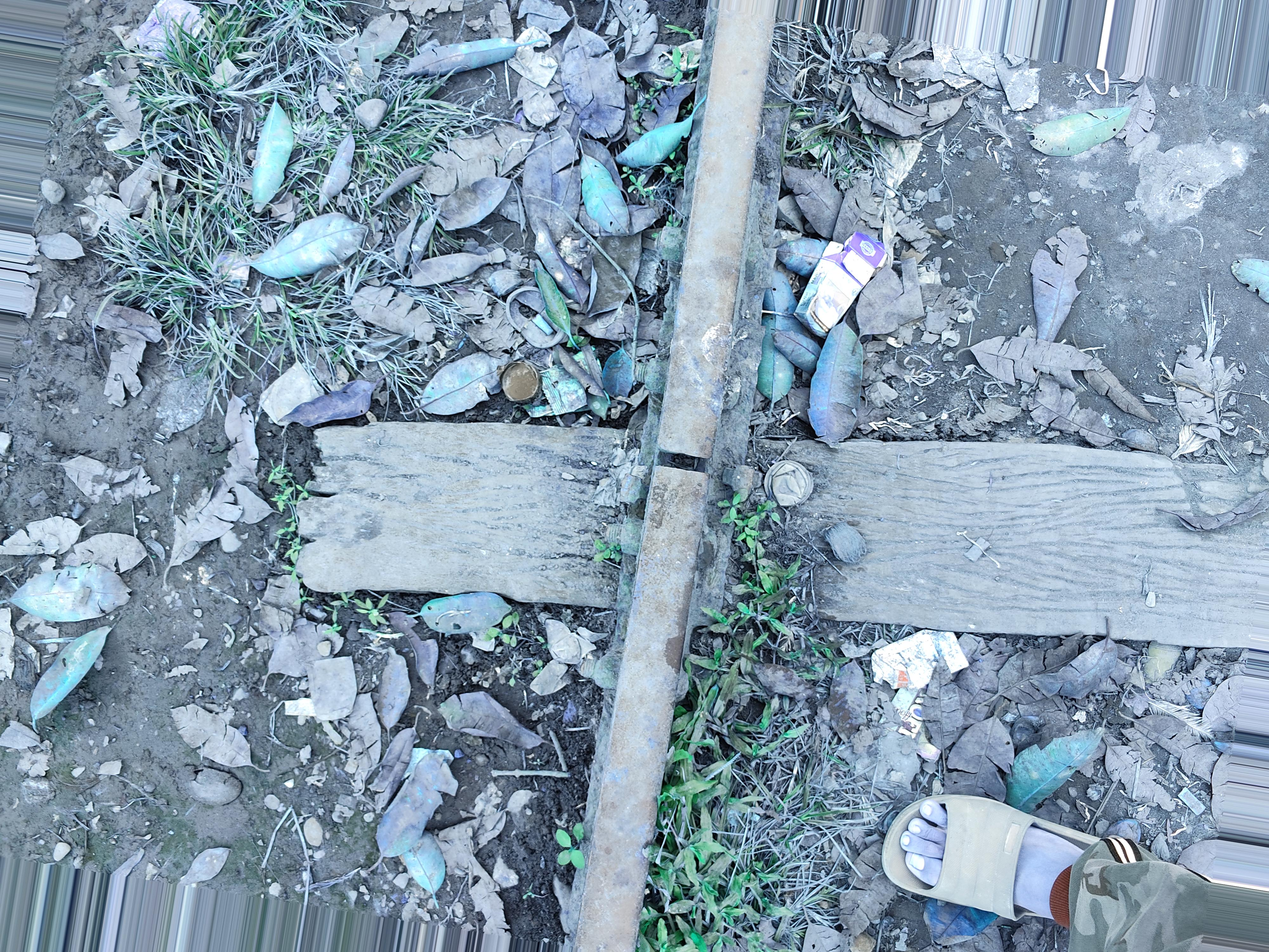tracks_fault: (601, 410, 759, 607)
